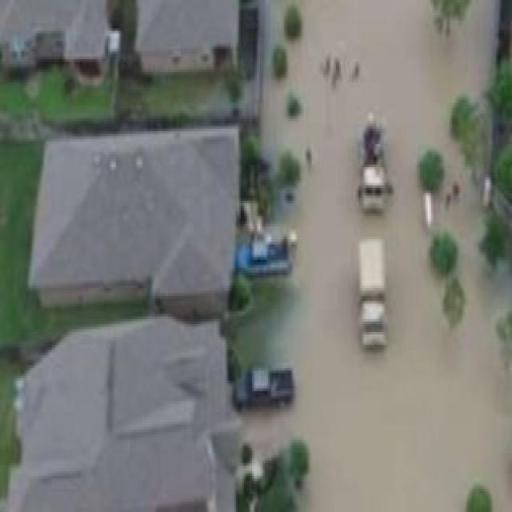flood: (241, 0, 512, 512)
house: (8, 302, 240, 512), (24, 124, 240, 317), (0, 0, 114, 88), (131, 0, 253, 76)
